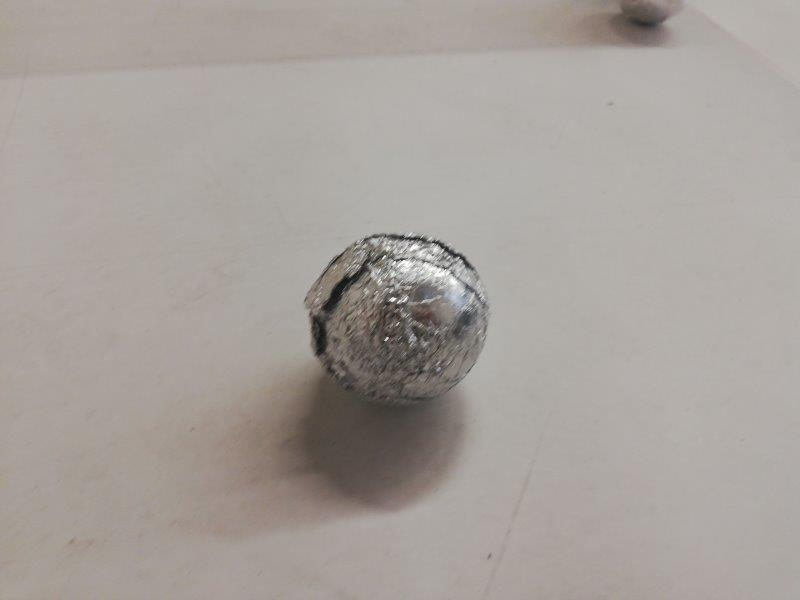bianca: (304, 230, 495, 412)
